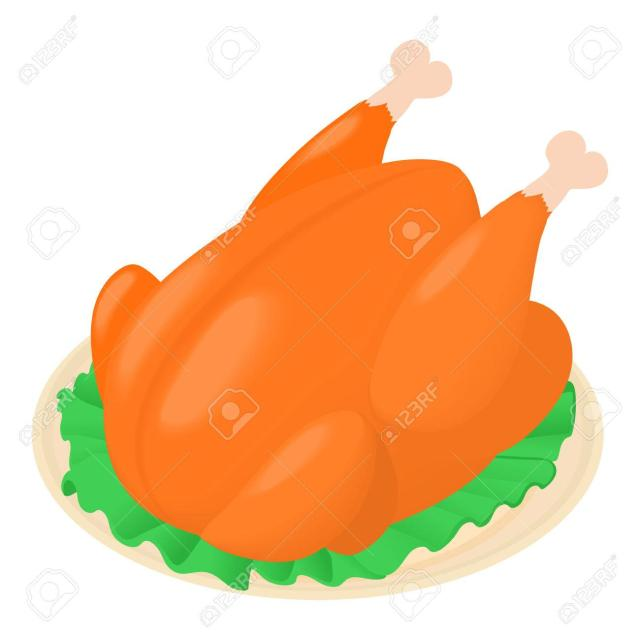pollo: (81, 35, 620, 582)
